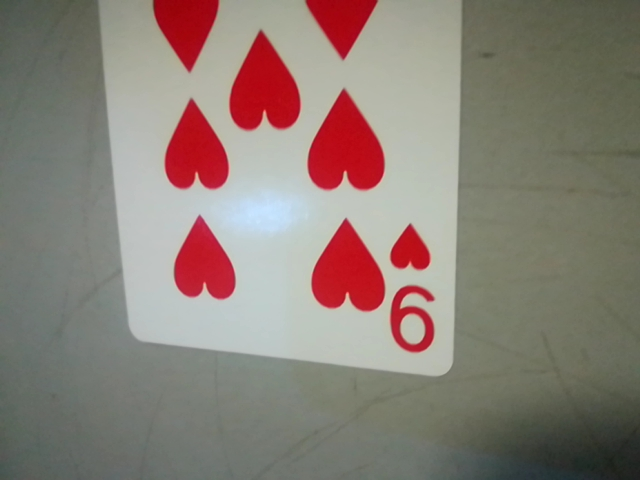hx 9: (382, 217, 449, 363)
